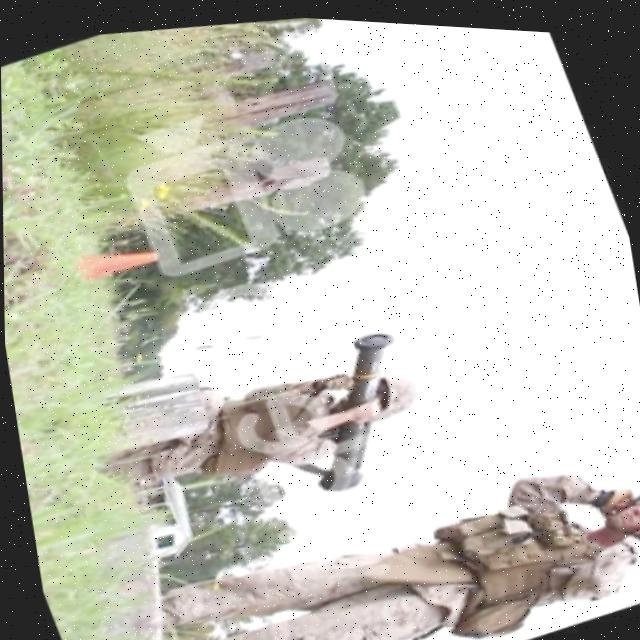rocket: (256, 311, 448, 508)
